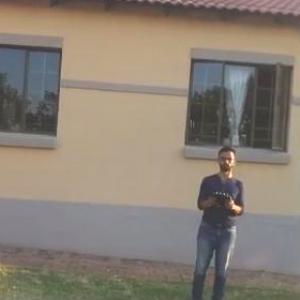follow: (183, 139, 249, 299)
